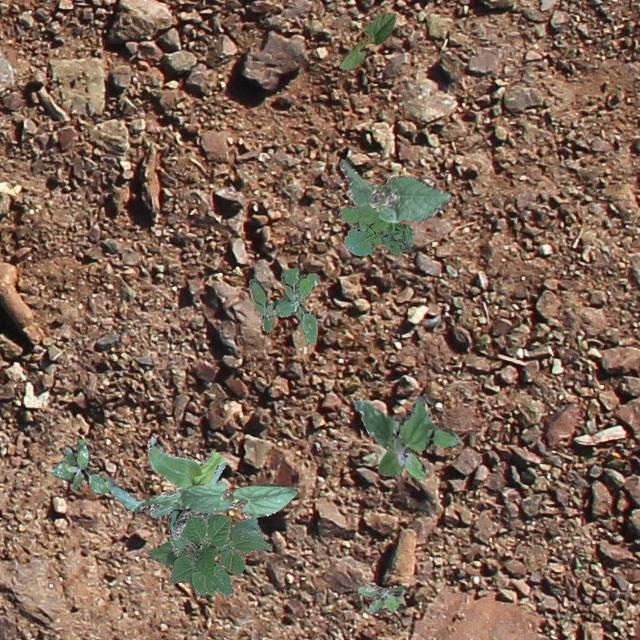crop: (104, 436, 226, 538), (147, 514, 270, 592), (338, 158, 449, 222), (168, 510, 232, 596), (180, 480, 296, 518), (338, 12, 394, 70)
weed: (352, 394, 458, 478), (248, 266, 318, 344), (338, 203, 412, 254), (51, 438, 108, 494), (356, 584, 404, 612)
